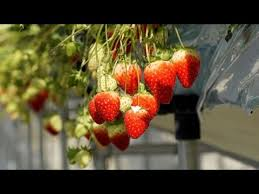ripe: (169, 45, 203, 93), (142, 56, 173, 106), (113, 60, 142, 96), (131, 90, 161, 124), (123, 105, 148, 138), (94, 92, 119, 123), (90, 118, 112, 148), (85, 93, 99, 119), (40, 119, 58, 138)
unripe: (84, 39, 105, 73), (108, 122, 132, 150), (46, 113, 62, 132), (97, 75, 115, 91), (72, 121, 86, 139), (76, 150, 89, 167), (118, 93, 129, 112)
